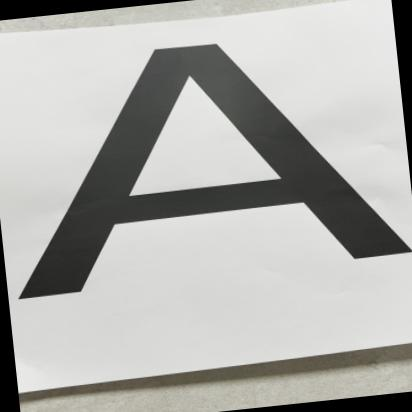seat: (0, 4, 412, 379), (0, 13, 412, 340)
